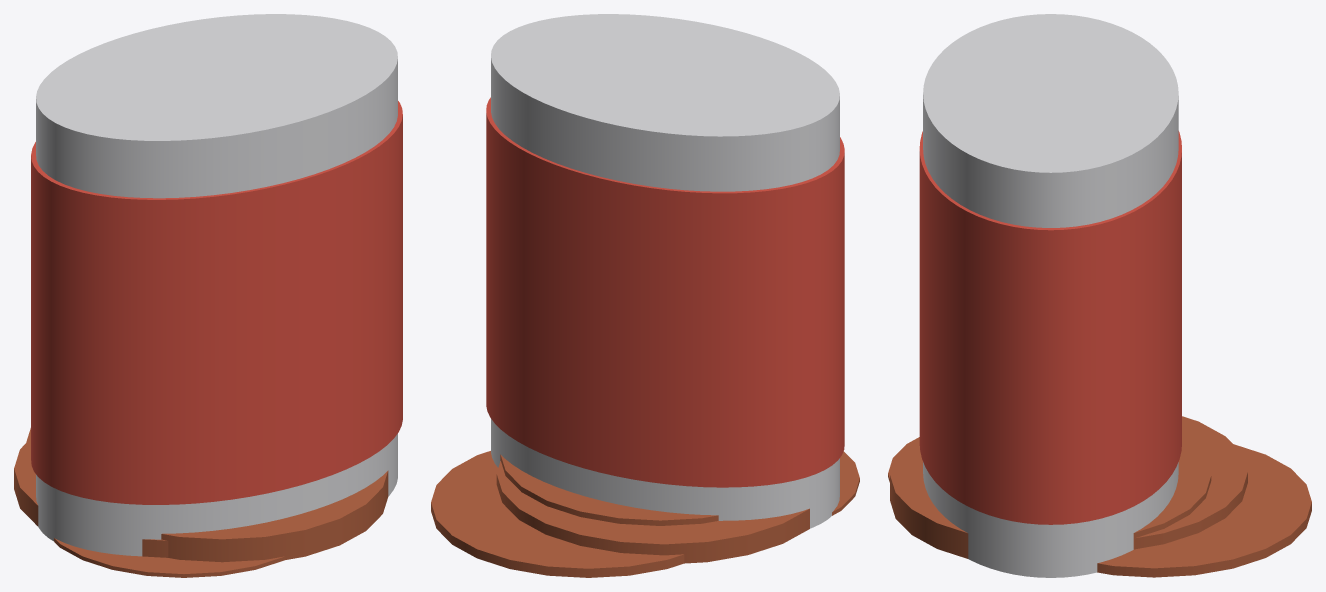
Rendered from soup_can_dead.glb.
3 renders of one model, left to right at view 1: azimuth 30°, elevation 25°; view 2: azimuth 150°, elevation 25°; view 3: azimuth 270°, elevation 25°, orthographic. The views are drawn at different scales.
Visible parts, largest first — view 1: Cylinder.008, Cylinder.007, Cylinder.013, Cylinder.009, Cylinder.012; view 2: Cylinder.008, Cylinder.007, Cylinder.010, Cylinder.012, Cylinder.013, Cylinder.009; view 3: Cylinder.008, Cylinder.007, Cylinder.010, Cylinder.013, Cylinder.012.
Boxes of the visible parts, bbox=[...] form: Cylinder.008: bbox=[31, 101, 402, 504]; Cylinder.007: bbox=[36, 14, 397, 556]; Cylinder.013: bbox=[161, 470, 388, 562]; Cylinder.009: bbox=[54, 538, 285, 577]; Cylinder.012: bbox=[14, 438, 168, 557]; Cylinder.008: bbox=[486, 97, 844, 487]; Cylinder.007: bbox=[491, 14, 839, 528]; Cylinder.010: bbox=[431, 451, 684, 577]; Cylinder.012: bbox=[496, 461, 809, 563]; Cylinder.013: bbox=[500, 454, 718, 525]; Cylinder.009: bbox=[832, 451, 859, 515]; Cylinder.008: bbox=[919, 131, 1181, 524]; Cylinder.007: bbox=[923, 14, 1178, 577]; Cylinder.010: bbox=[1097, 444, 1311, 577]; Cylinder.013: bbox=[890, 437, 1211, 558]; Cylinder.012: bbox=[1135, 416, 1247, 549].
Size of the model in its own units: 1.9 by 2.2 by 2.09.
